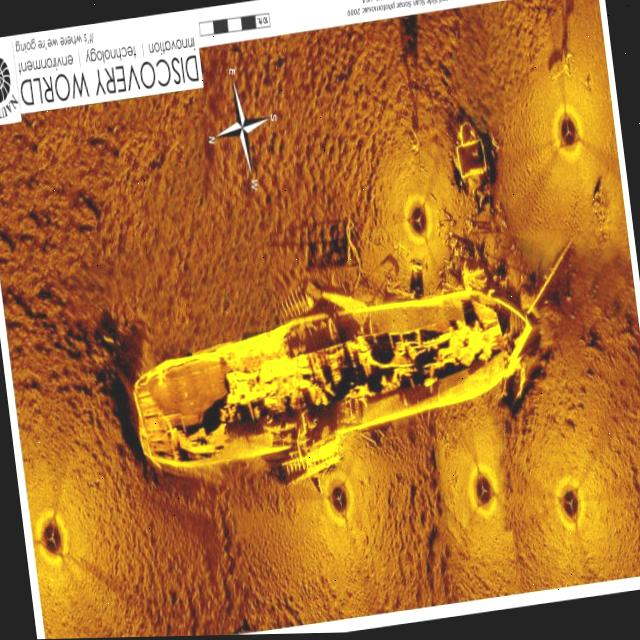shipwreck: (116, 267, 544, 486)
